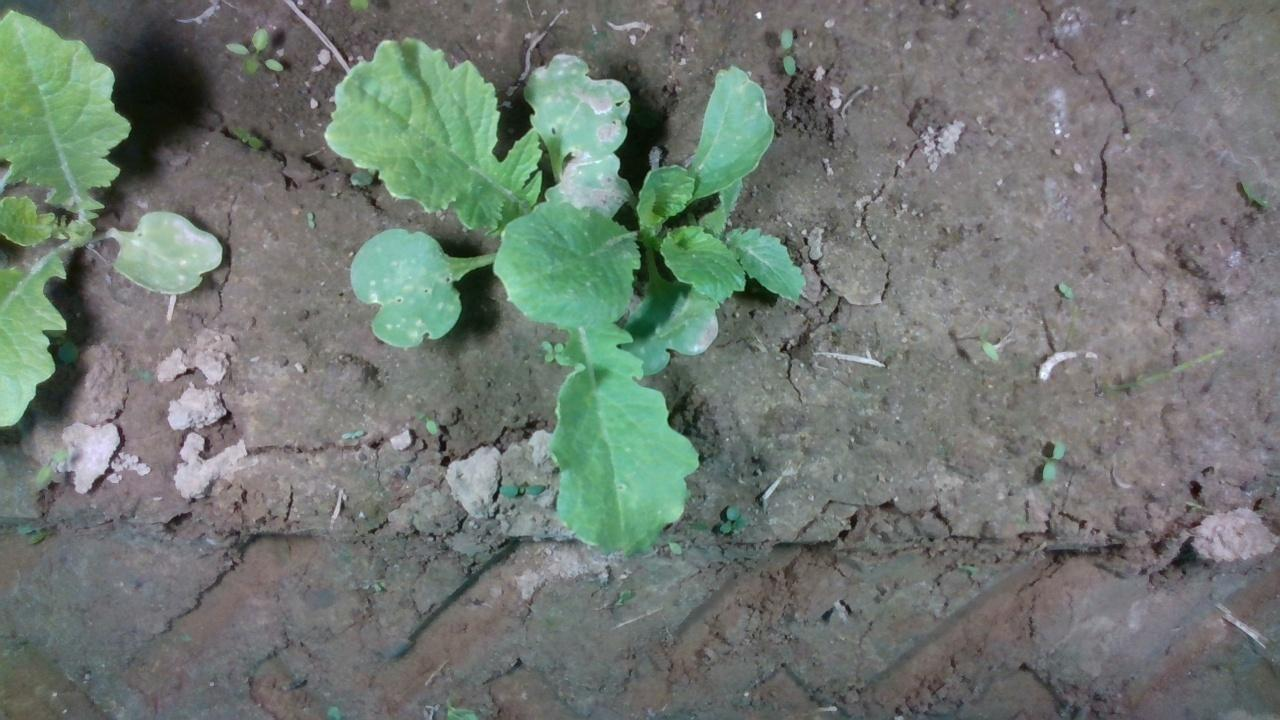weed: (1040, 439, 1067, 483), (227, 122, 263, 150), (778, 25, 796, 76), (1056, 279, 1074, 299), (339, 427, 364, 440), (305, 210, 315, 228)
